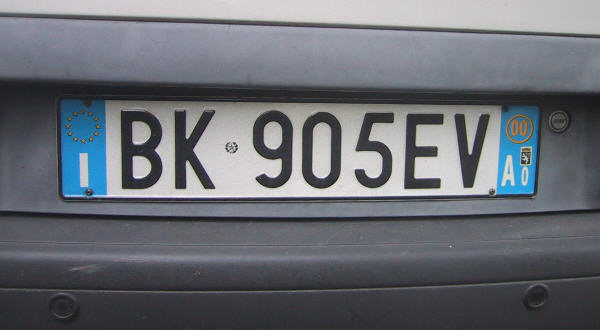license_plate: (57, 96, 542, 200)
